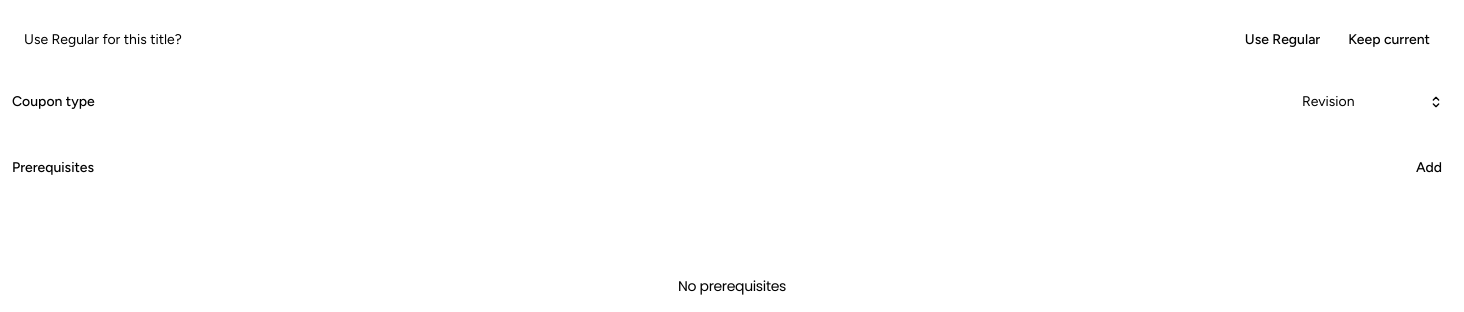
it: lets the editor keep a revision coupon on an ordinary title
Click the button "Keep current".
click(1389, 40)  # box [1338, 24, 1440, 56]
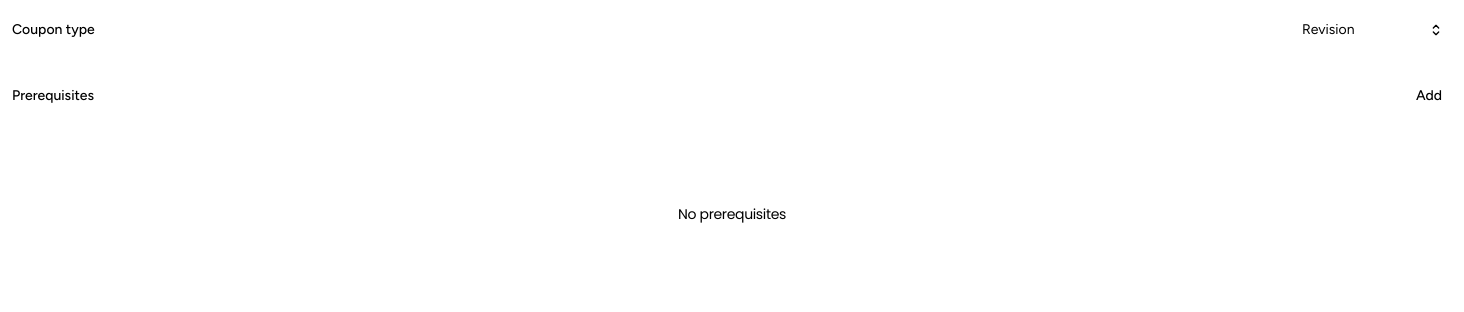
Now the text "Use Regular" is gone
